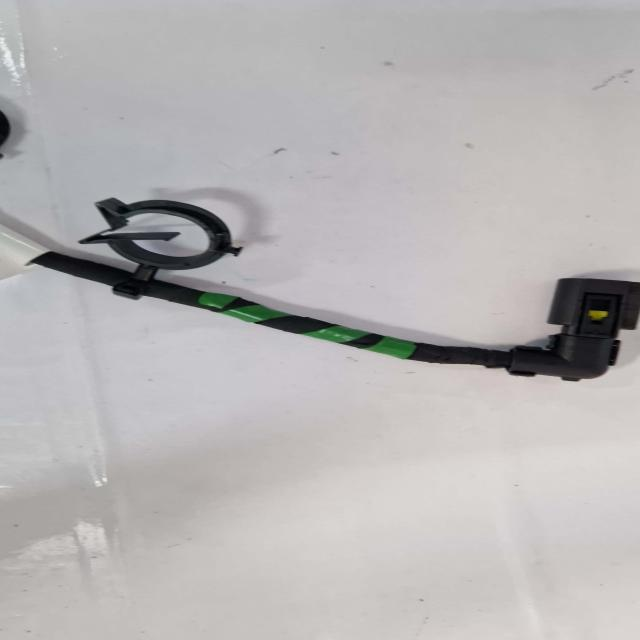AJ20_D6_Cable: (0, 226, 511, 368)
Clip: (80, 199, 240, 299)
Connector: (507, 278, 640, 381)
